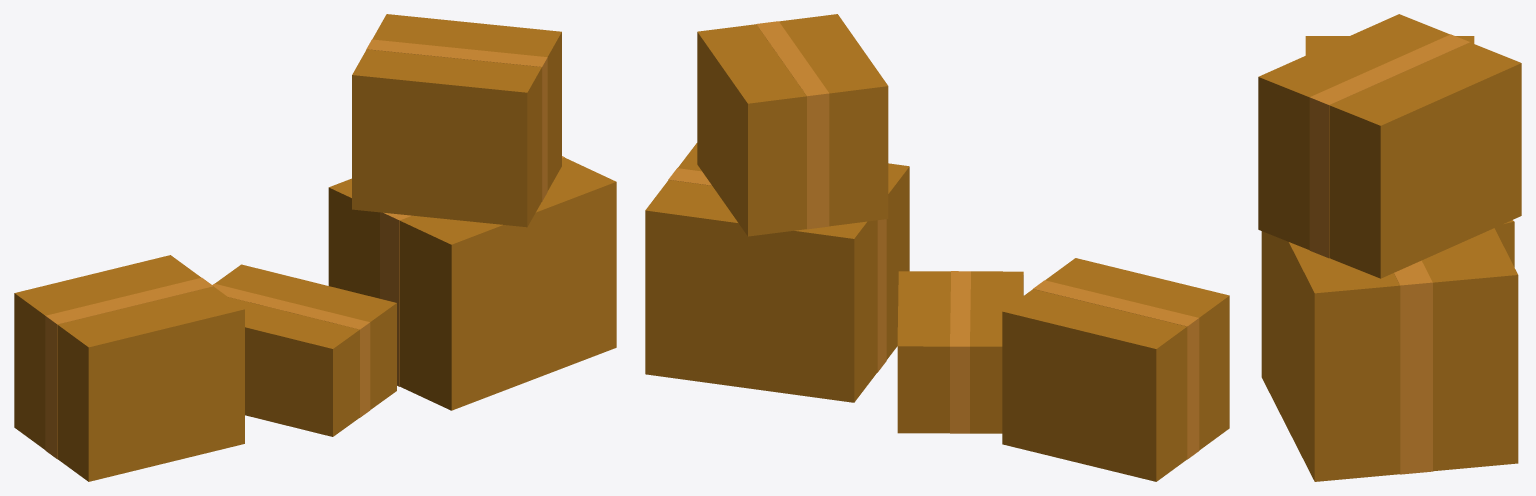
Rendered from boxes.fbx.
3 views of the same model, side by side, from view 1: azimuth 30°, elevation 25°; view 2: azimuth 150°, elevation 25°; view 3: azimuth 270°, elevation 25° (orthographic). The views are drawn at different scales.
Parts seen in each view (by area): view 1: Cube.028, Cube.026, Cube.029, Cube.027; view 2: Cube.028, Cube.026, Cube.029, Cube.027; view 3: Cube.029, Cube.028, Cube.026, Cube.027.
Boxes of the visible parts, bbox=[...] form: Cube.028: bbox=[328, 156, 616, 410]; Cube.026: bbox=[14, 255, 244, 481]; Cube.029: bbox=[352, 14, 561, 227]; Cube.027: bbox=[212, 264, 396, 436]; Cube.028: bbox=[645, 143, 909, 402]; Cube.026: bbox=[1002, 258, 1229, 481]; Cube.029: bbox=[697, 14, 888, 236]; Cube.027: bbox=[897, 271, 1023, 433]; Cube.029: bbox=[1258, 14, 1521, 278]; Cube.028: bbox=[1261, 228, 1518, 481]; Cube.026: bbox=[1305, 36, 1474, 55]; Cube.027: bbox=[1494, 220, 1514, 267].
Bounding box in the file's own units: 99.52 × 54.14 × 37.55.
